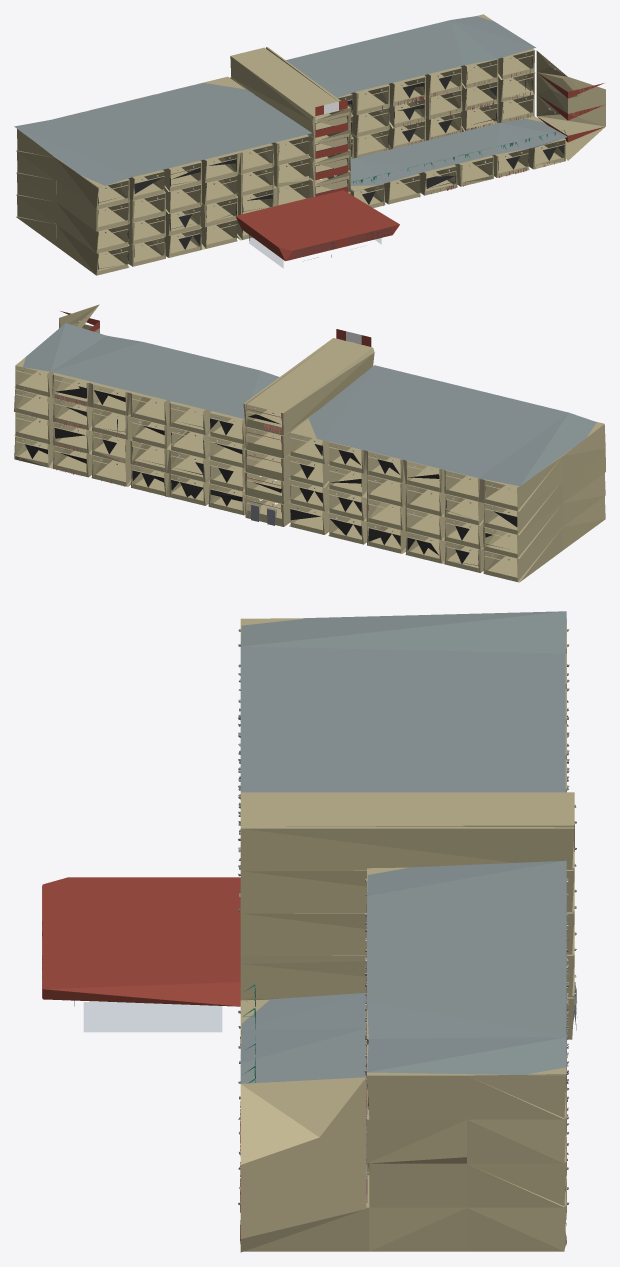
File: school.lod1.glb
3 views of the same model, one above another, from view 1: azimuth 30°, elevation 25°; view 2: azimuth 150°, elevation 25°; view 3: azimuth 270°, elevation 25° (orthographic). The views are drawn at different scales.
Parts seen in each view (by area): view 1: Object_129; view 2: Object_129; view 3: Object_129.
Part boxes in pixels (x1,y1,x2,y2): Object_129: [14, 14, 605, 275]; Object_129: [14, 304, 605, 582]; Object_129: [42, 611, 577, 1252].
Bounding box in the file's own units: 55 × 11.89 × 25.
3 materials, 3 textured.
